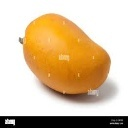mango: (18, 12, 112, 95)
